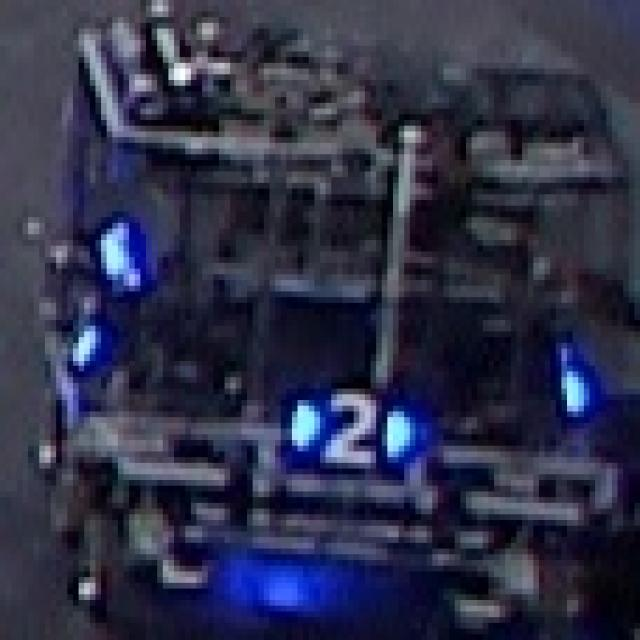B2: (281, 383, 410, 463)
